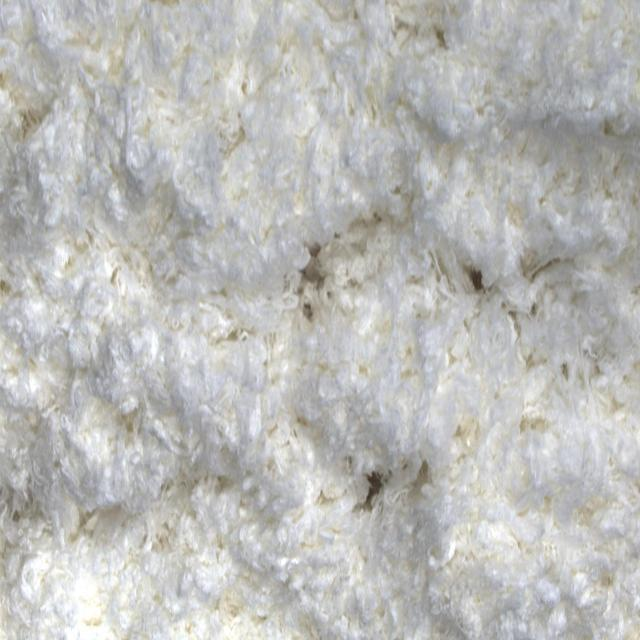dust: (358, 464, 398, 510)
